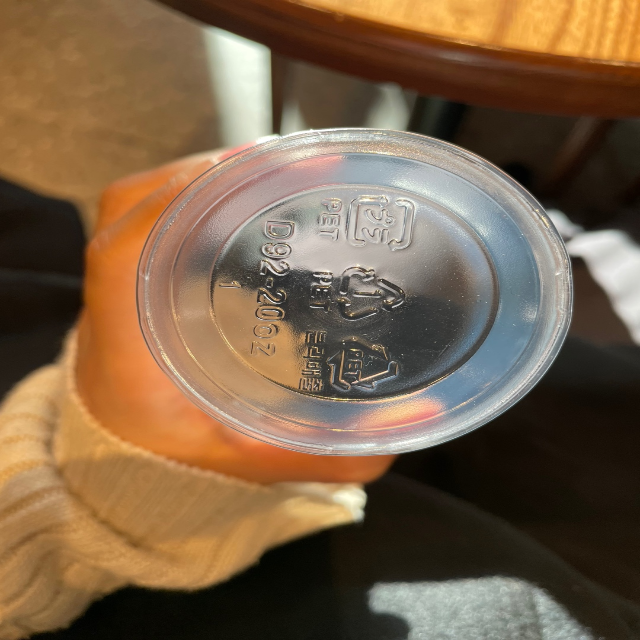pet: (293, 327, 406, 399), (312, 190, 423, 257), (304, 261, 415, 322)
